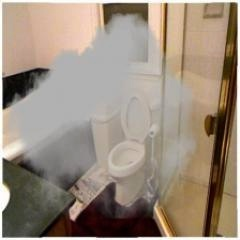smoke: (52, 49, 182, 140)
